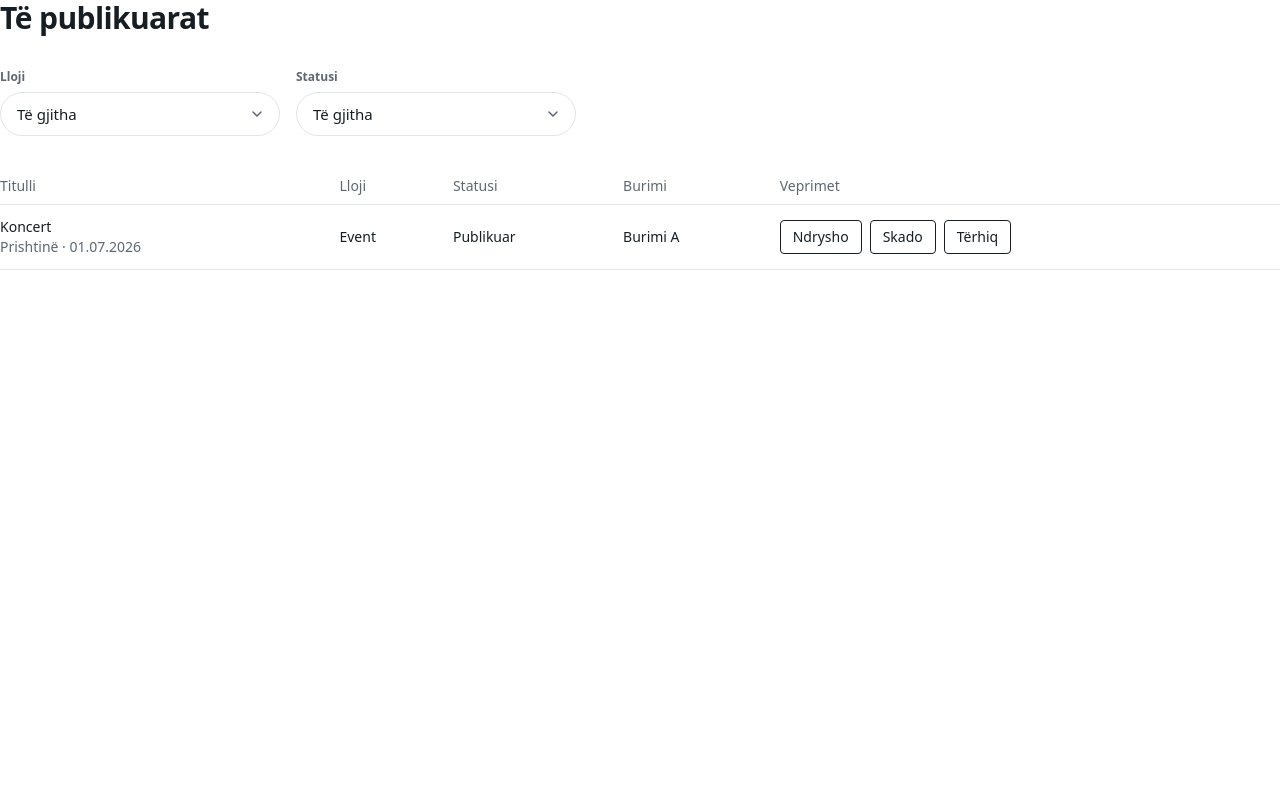
Test: PublishedPage › shows an error when the action fails and filters through the query string
expect the text "Koncert" is shown: met, box [0, 217, 51, 236]
Step 1. Click the button "Skado" → (903, 237), box [870, 220, 936, 254]
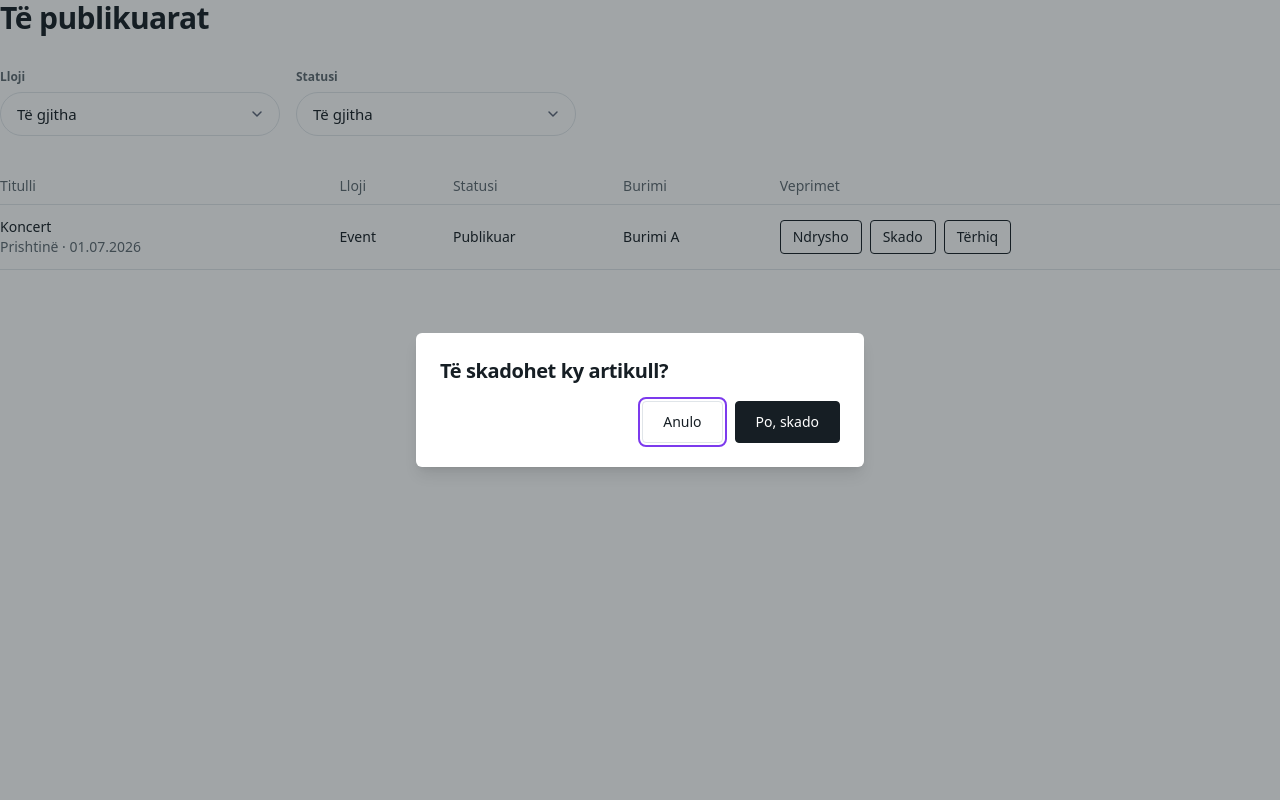
Step 2. Click the button "Po, skado" → (787, 422), box [734, 401, 840, 443]
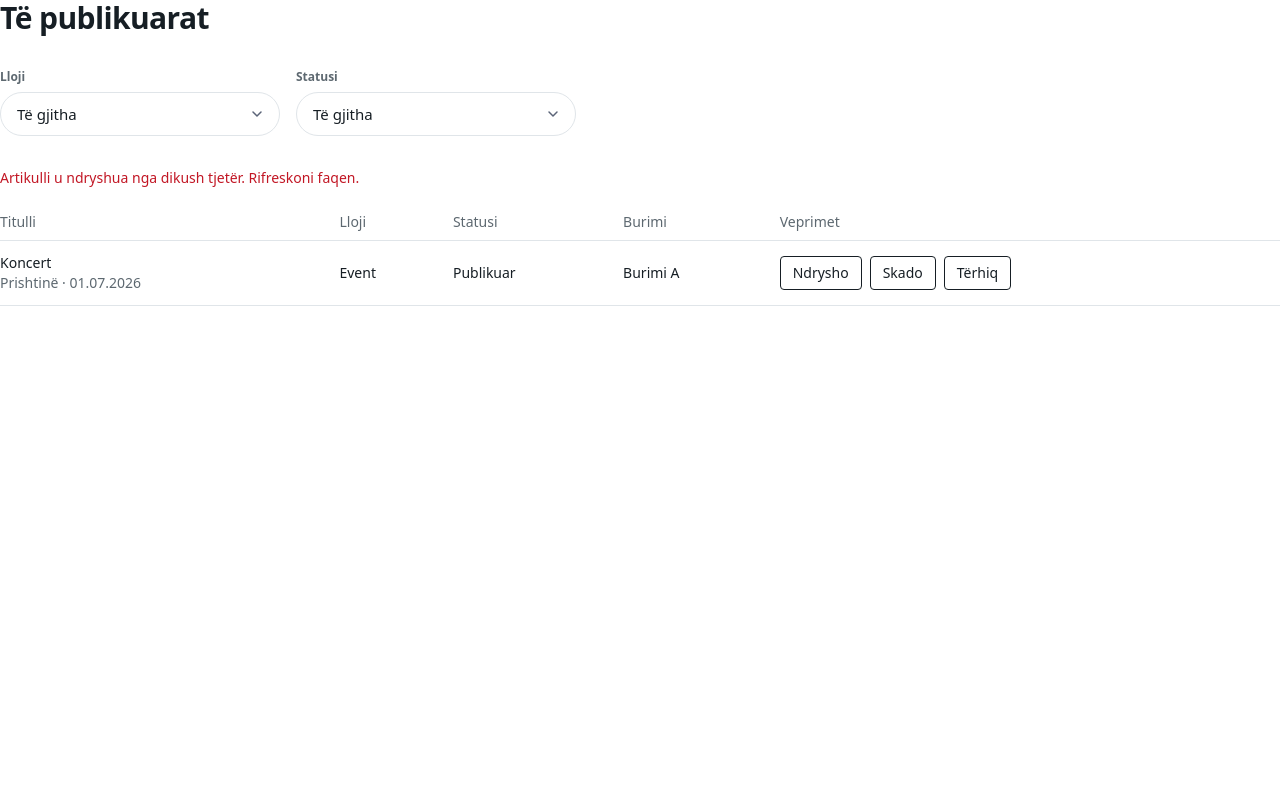
expect the message shows "u ndryshua nga dikush tjetër": met, box [0, 168, 359, 187]
Step 3. Select "Skaduar" in the dropdown labelled "Statusi" → (436, 114), box [296, 92, 576, 136]
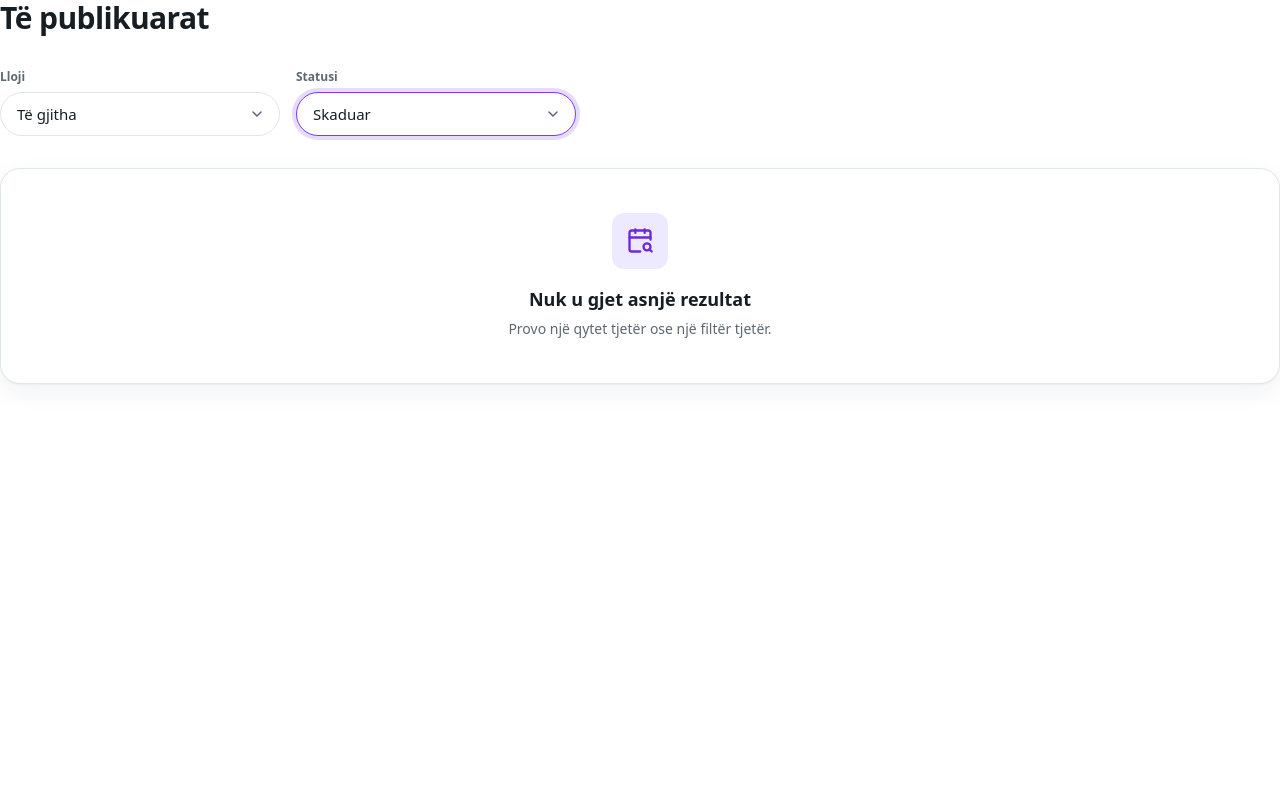
expect the text "Koncert" is gone: met
